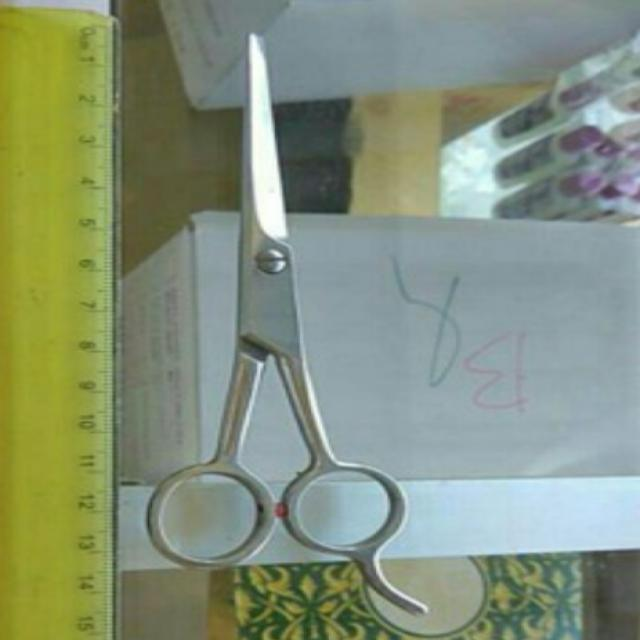scissor: (136, 13, 467, 640)
